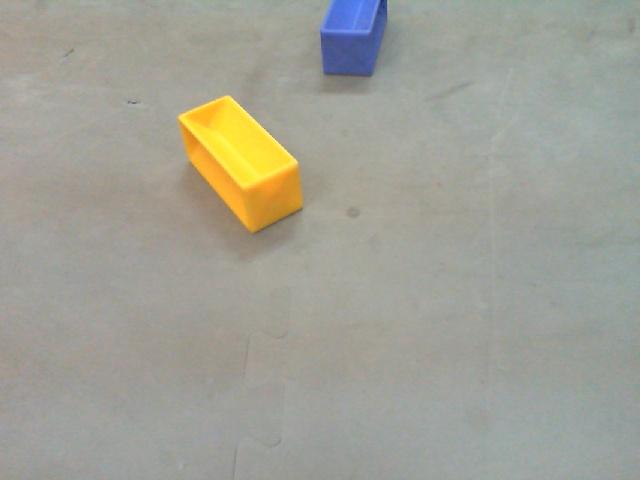BlueSample: (316, 1, 391, 79)
YellowSample: (174, 93, 304, 242)
